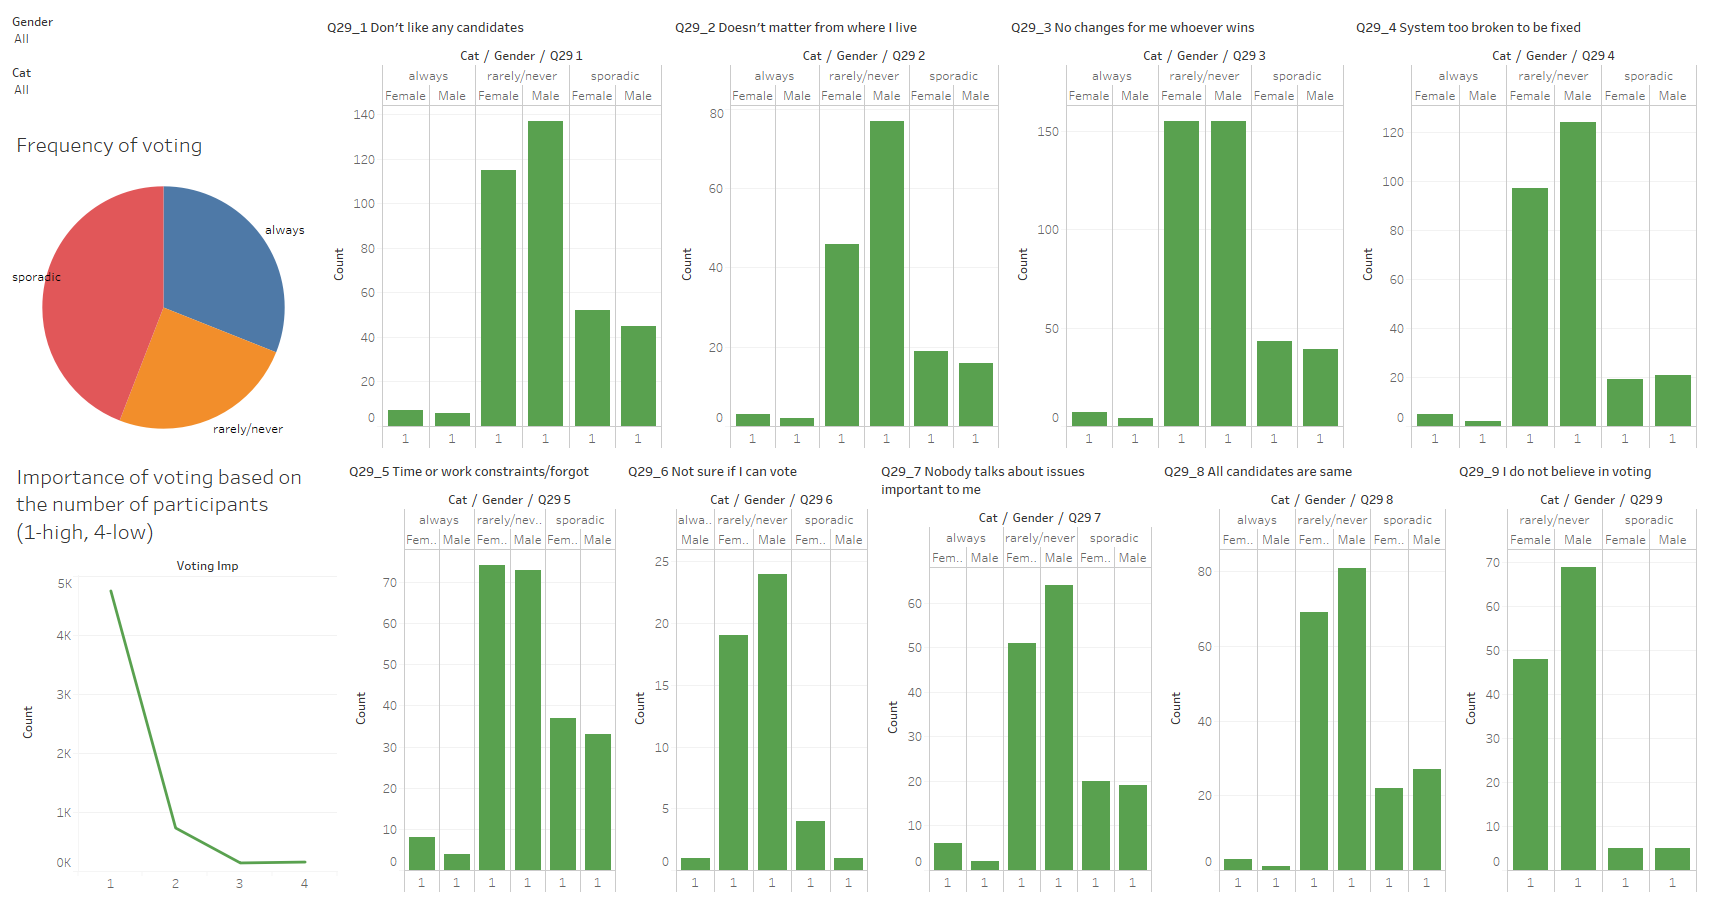

This screenshot's page, from the dashboard's own definition file:
{"tool":"tableau","page":{"name":"Dashboard Sheet 2","canvas":[1000,1000],"units":"permille","ordinal":1},"visuals":[{"type":"worksheet","box":[0,0,1000,1000]},{"type":"worksheet","param":"horz","box":[9.5,11.5,981.1,977]},{"type":"worksheet","param":"horz","box":[9.5,11.5,981.1,977]},{"type":"worksheet","box":[9.5,11.5,981.1,977]},{"type":"worksheet","title":"R1_4","mark":"Bar","rows":["F1"],"cols":["cat","gender","Q29_1"],"param":"[federated.1wsnor0079xv8a16ecv1d0tuglkh].[none:gender:nk]","box":[9.5,11.5,180.5,56.1]},{"type":"worksheet","title":"R1_4","mark":"Bar","rows":["F1"],"cols":["cat","gender","Q29_1"],"box":[189.9,11.5,201.6,488.5]},{"type":"worksheet","title":"R1_5","mark":"Automatic","rows":["F1"],"cols":["cat","gender","Q29_2"],"box":[391.5,11.5,194.5,488.5]},{"type":"worksheet","title":"R1_6","mark":"Bar","rows":["F1"],"cols":["cat","gender","Q29_3"],"box":[586,11.5,199.7,488.5]},{"type":"worksheet","title":"R1_7","mark":"Automatic","rows":["F1"],"cols":["cat","gender","Q29_4"],"box":[785.7,11.5,204.8,488.5]},{"type":"worksheet","title":"R1_4","mark":"Bar","rows":["F1"],"cols":["cat","gender","Q29_1"],"param":"[federated.1wsnor0079xv8a16ecv1d0tuglkh].[none:cat:nk]","box":[9.5,67.6,180.5,67.1]},{"type":"worksheet","title":"R1_1","mark":"Pie","box":[9.5,134.7,180.5,365.3]},{"type":"worksheet","title":"R1_3","mark":"Line","rows":["F1"],"cols":["voting_imp"],"box":[9.5,500,192.9,488.5]},{"type":"worksheet","title":"R1_8","mark":"Automatic","rows":["F1"],"cols":["cat","gender","Q29_5"],"box":[202.4,500,161.7,488.5]},{"type":"worksheet","title":"R1_9","mark":"Automatic","rows":["F1"],"cols":["cat","gender","Q29_6"],"box":[364.1,500,146.6,488.5]},{"type":"worksheet","title":"R1_10","mark":"Automatic","rows":["F1"],"cols":["cat","gender","Q29_7"],"box":[510.7,500,164,488.5]},{"type":"worksheet","title":"R1_11","mark":"Automatic","rows":["F1"],"cols":["cat","gender","Q29_8"],"box":[674.7,500,170.9,488.5]},{"type":"worksheet","title":"R1_12","mark":"Automatic","rows":["F1"],"cols":["cat","gender","Q29_9"],"box":[845.6,500,144.9,488.5]}]}

Visuals, with their boxes on the dashboard's canvas, which has no fixed pixel size, in thousandths of its width and height (x1, y1, x2, y2). These are canvas units, not pixel positions in the 1709x904 screenshot, which may show the page scaled, cropped or inside an application window:
worksheet: x1=0 y1=0 x2=1000 y2=1000
worksheet: x1=10 y1=12 x2=991 y2=988
worksheet: x1=10 y1=12 x2=991 y2=988
worksheet: x1=10 y1=12 x2=991 y2=988
"R1_4" worksheet (Bar marks): x1=10 y1=12 x2=190 y2=68
"R1_4" worksheet (Bar marks): x1=190 y1=12 x2=392 y2=500
"R1_5" worksheet: x1=392 y1=12 x2=586 y2=500
"R1_6" worksheet (Bar marks): x1=586 y1=12 x2=786 y2=500
"R1_7" worksheet: x1=786 y1=12 x2=990 y2=500
"R1_4" worksheet (Bar marks): x1=10 y1=68 x2=190 y2=135
"R1_1" worksheet (Pie marks): x1=10 y1=135 x2=190 y2=500
"R1_3" worksheet (Line marks): x1=10 y1=500 x2=202 y2=988
"R1_8" worksheet: x1=202 y1=500 x2=364 y2=988
"R1_9" worksheet: x1=364 y1=500 x2=511 y2=988
"R1_10" worksheet: x1=511 y1=500 x2=675 y2=988
"R1_11" worksheet: x1=675 y1=500 x2=846 y2=988
"R1_12" worksheet: x1=846 y1=500 x2=990 y2=988
